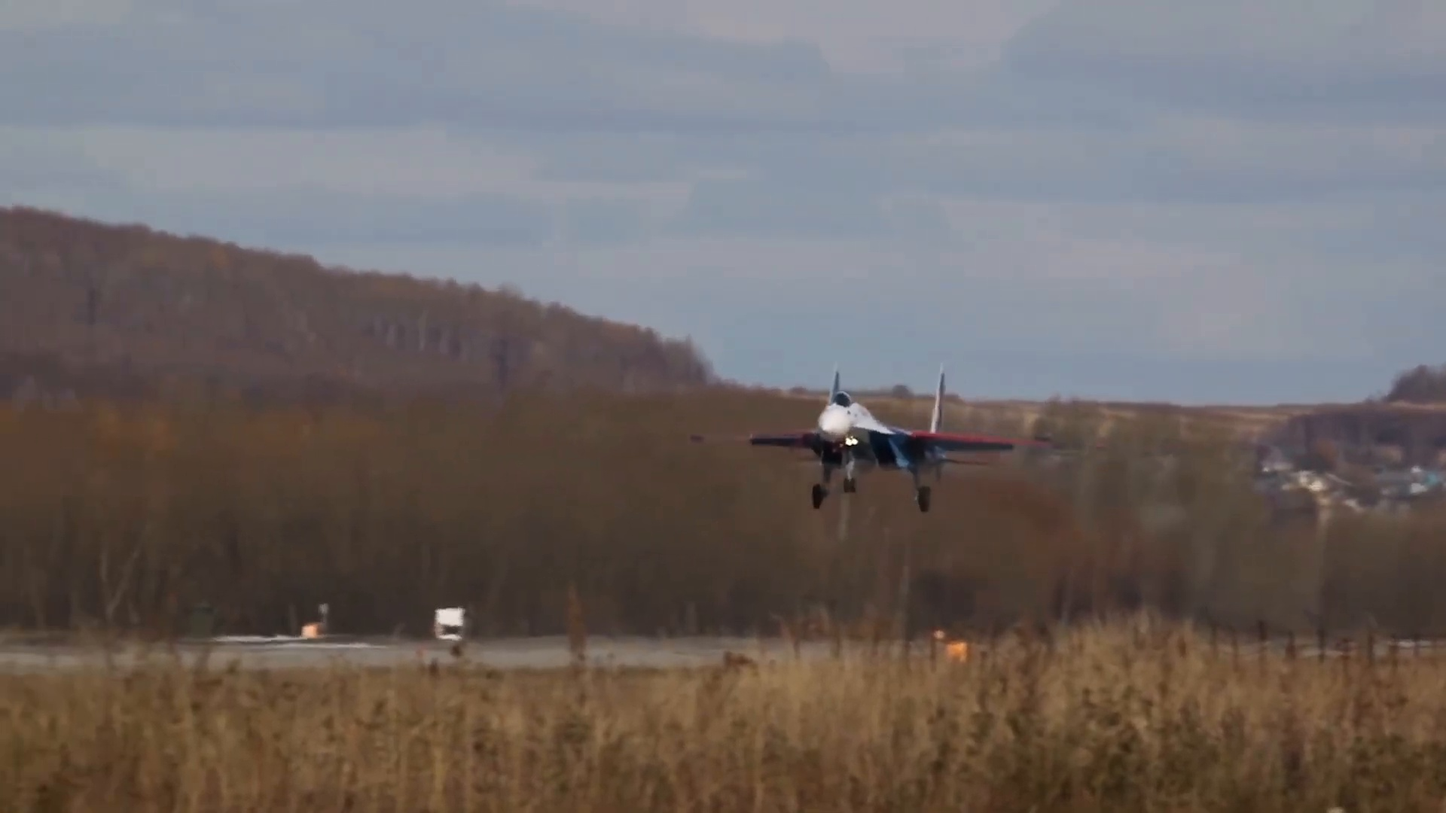Su35: (689, 362, 1069, 512)
